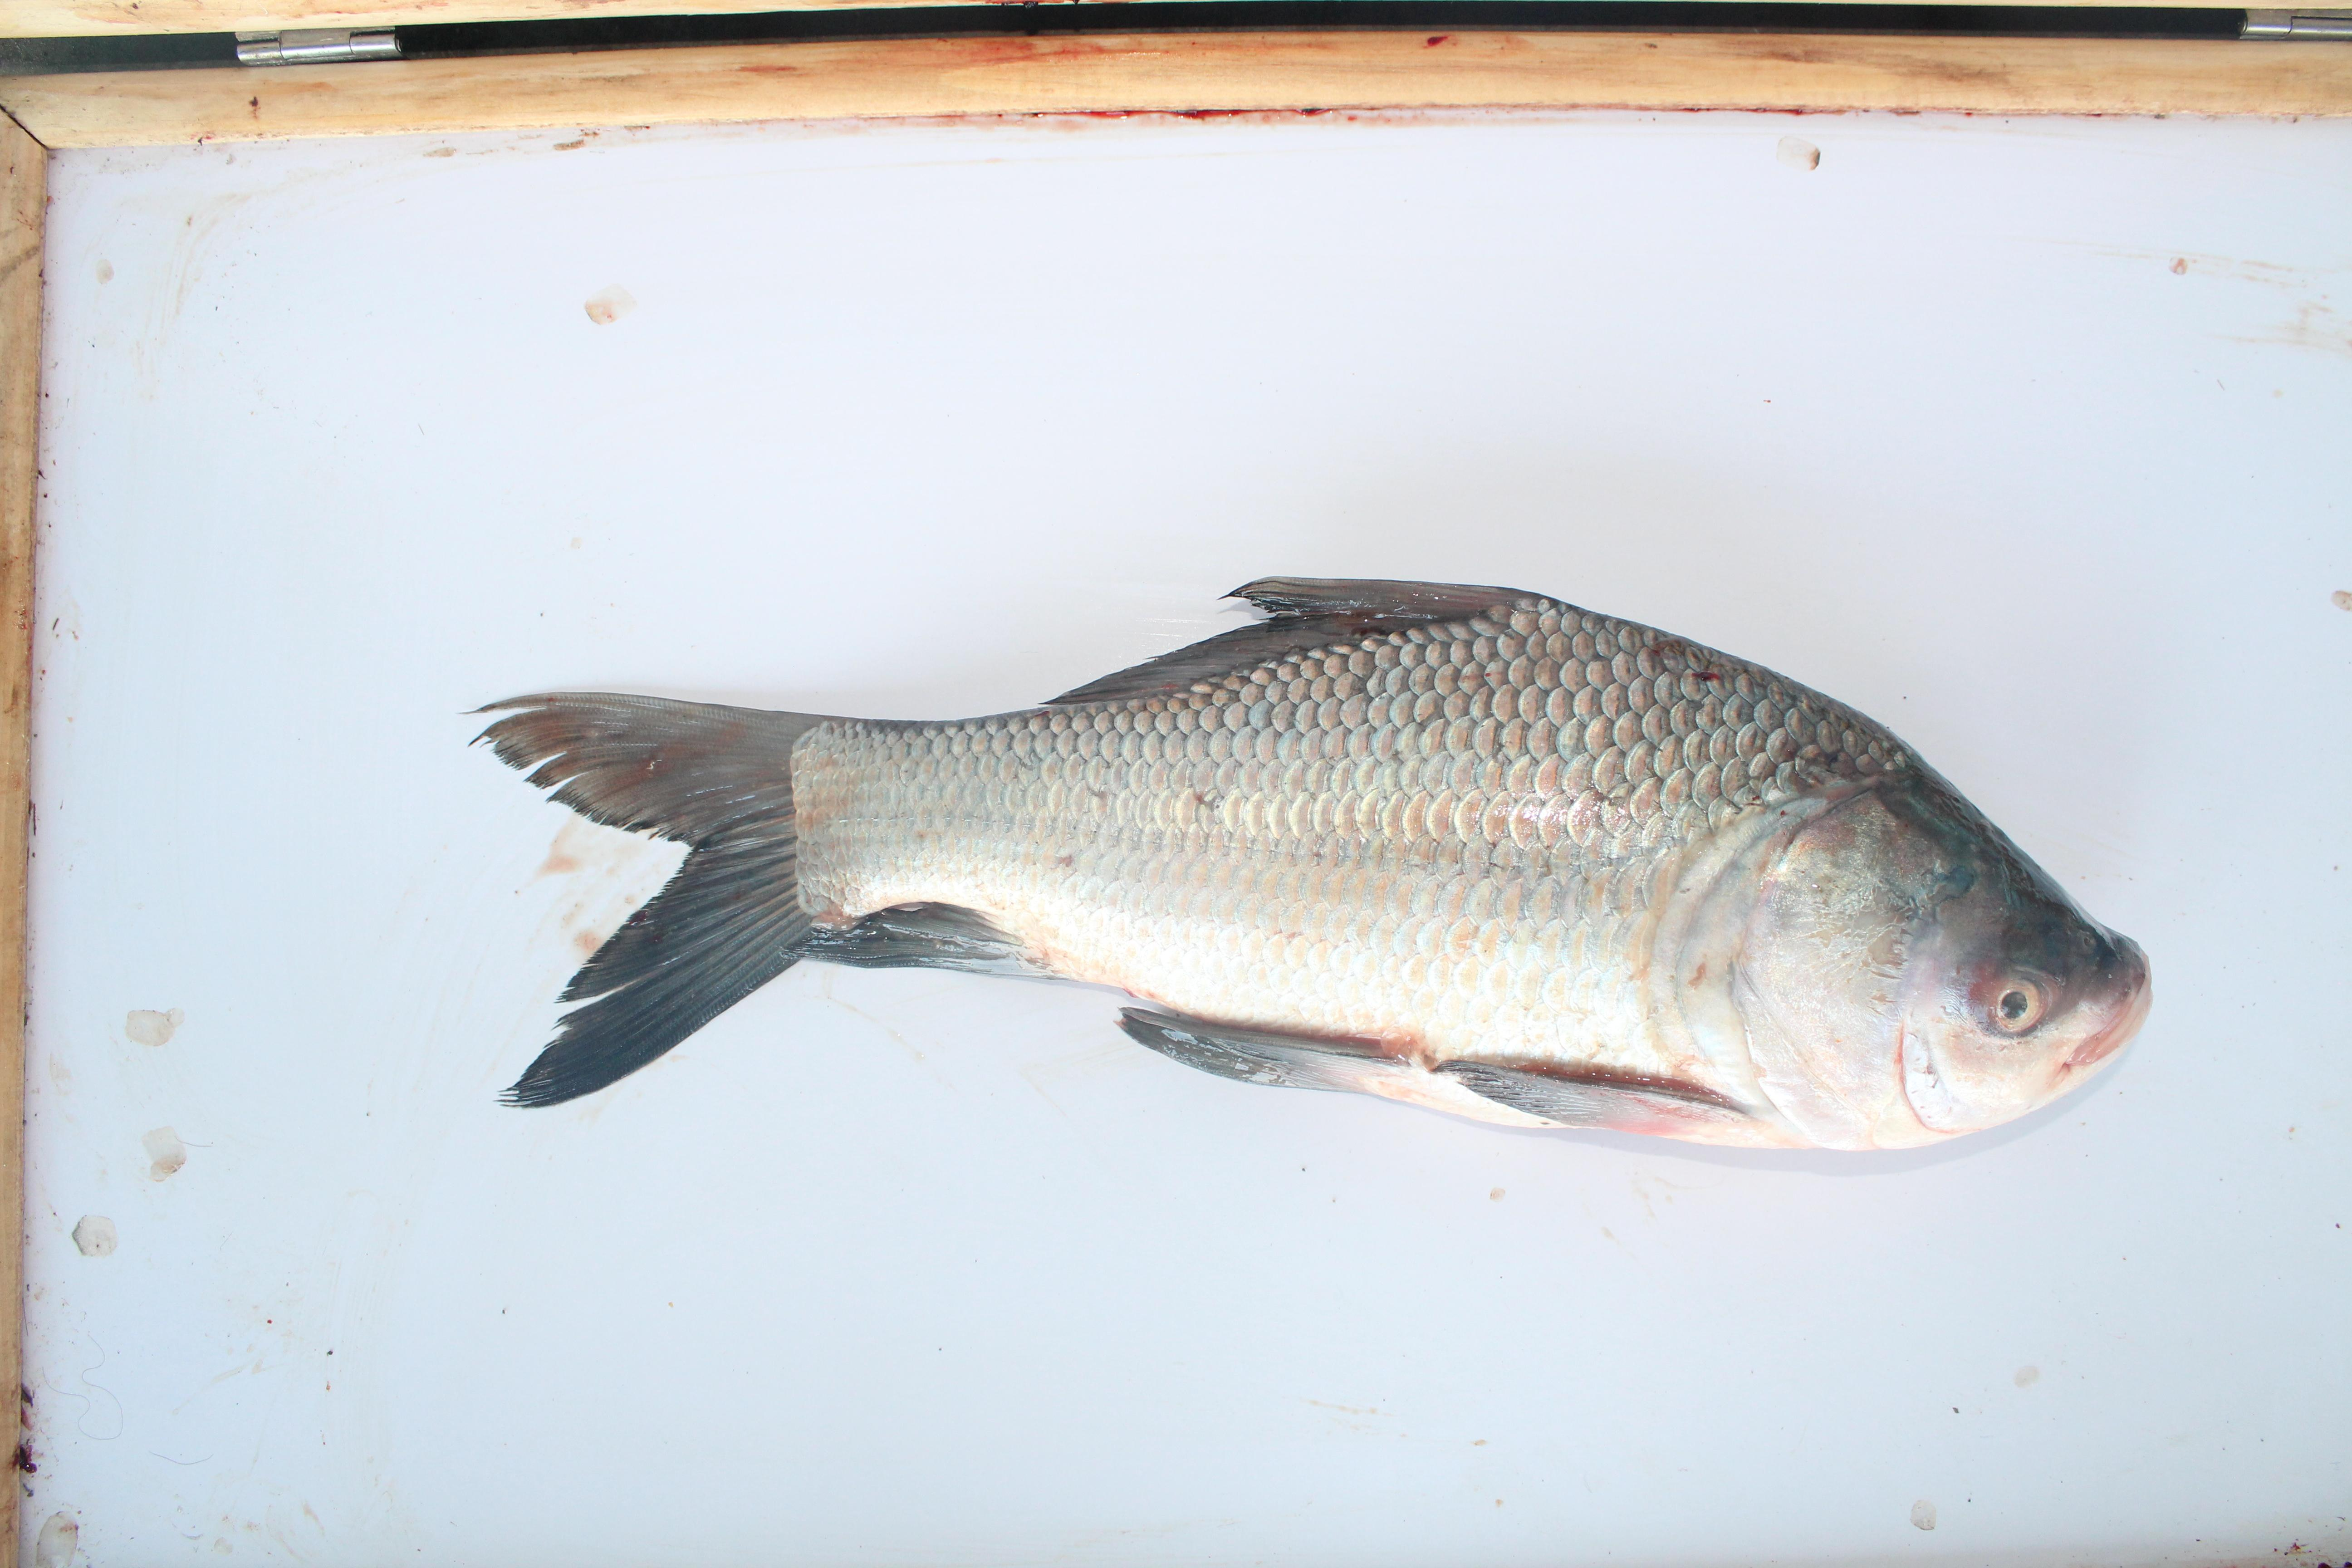Indian Carp: (478, 562, 2160, 1179)
